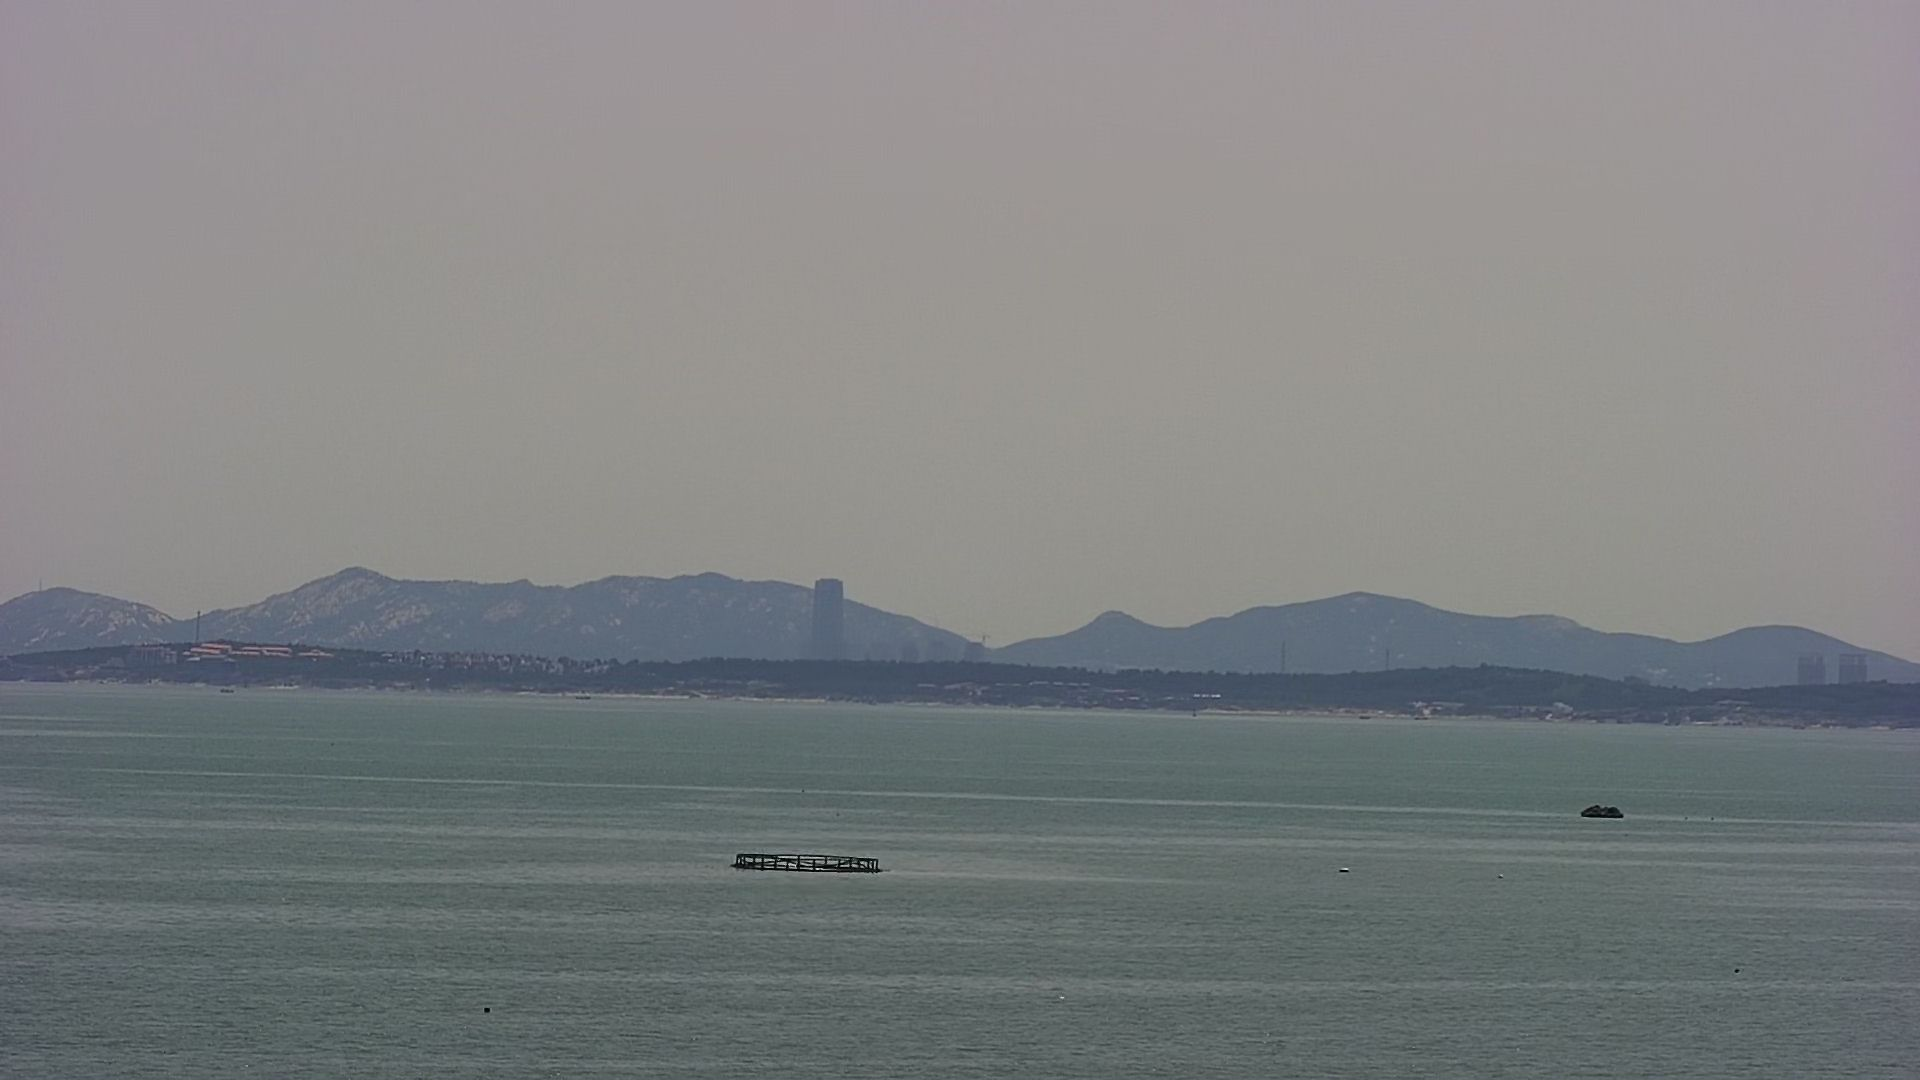platform: (728, 849, 882, 872)
rubbish: (1578, 800, 1626, 820)
